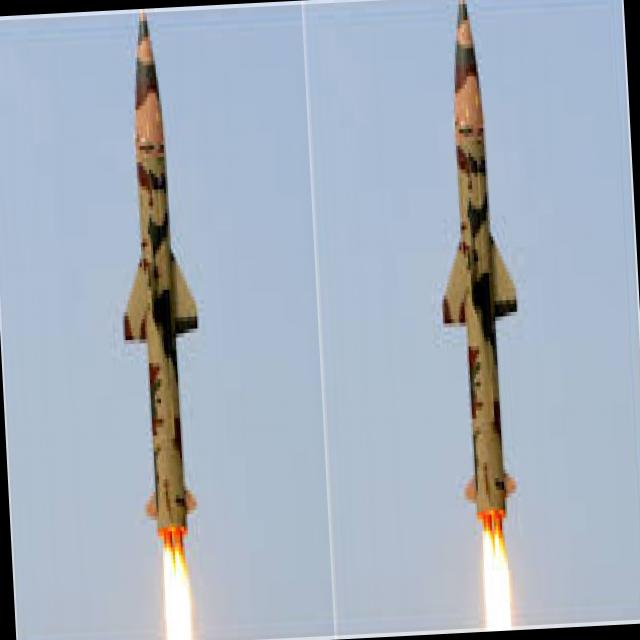rocket: (107, 11, 213, 640), (427, 2, 533, 613)
